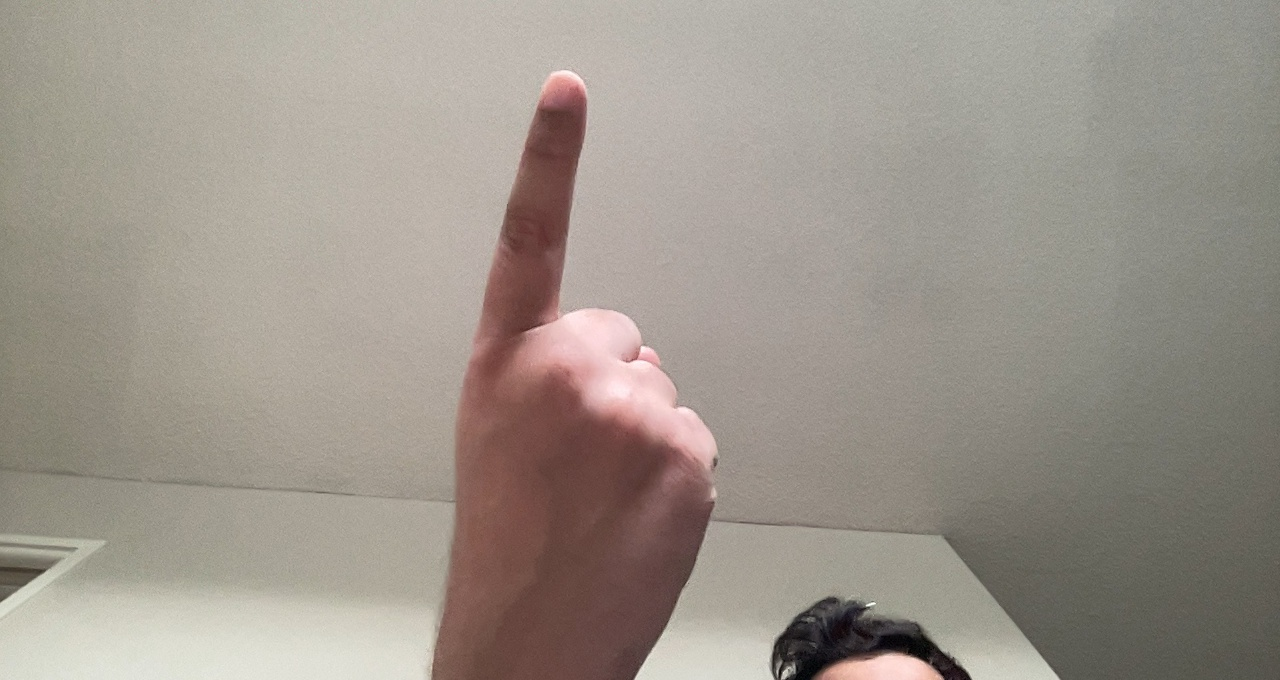fingerup: (450, 62, 734, 664)
